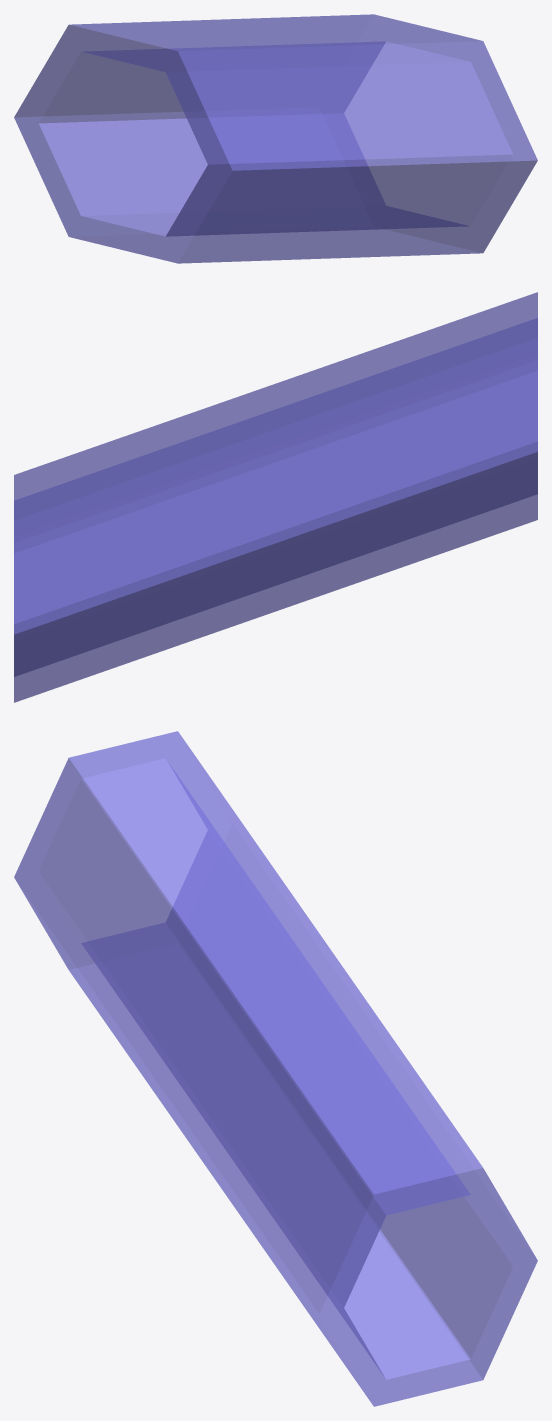
File: rampa2.glb
The picture shows the model from 3 angles, top to bottom: view 1: azimuth 30°, elevation 25°; view 2: azimuth 150°, elevation 25°; view 3: azimuth 270°, elevation 25°; orthographic projection. The views are drawn at different scales.
Visible parts, largest first — view 1: rampa+2-col; view 2: rampa+2-col; view 3: rampa+2-col.
Part boxes in pixels (x1,y1,x2,y2): rampa+2-col: (14,14,537,263); rampa+2-col: (14,292,537,702); rampa+2-col: (14,731,537,1406).
Size of the model in its own units: 1.61 by 1.15 by 1.29.
